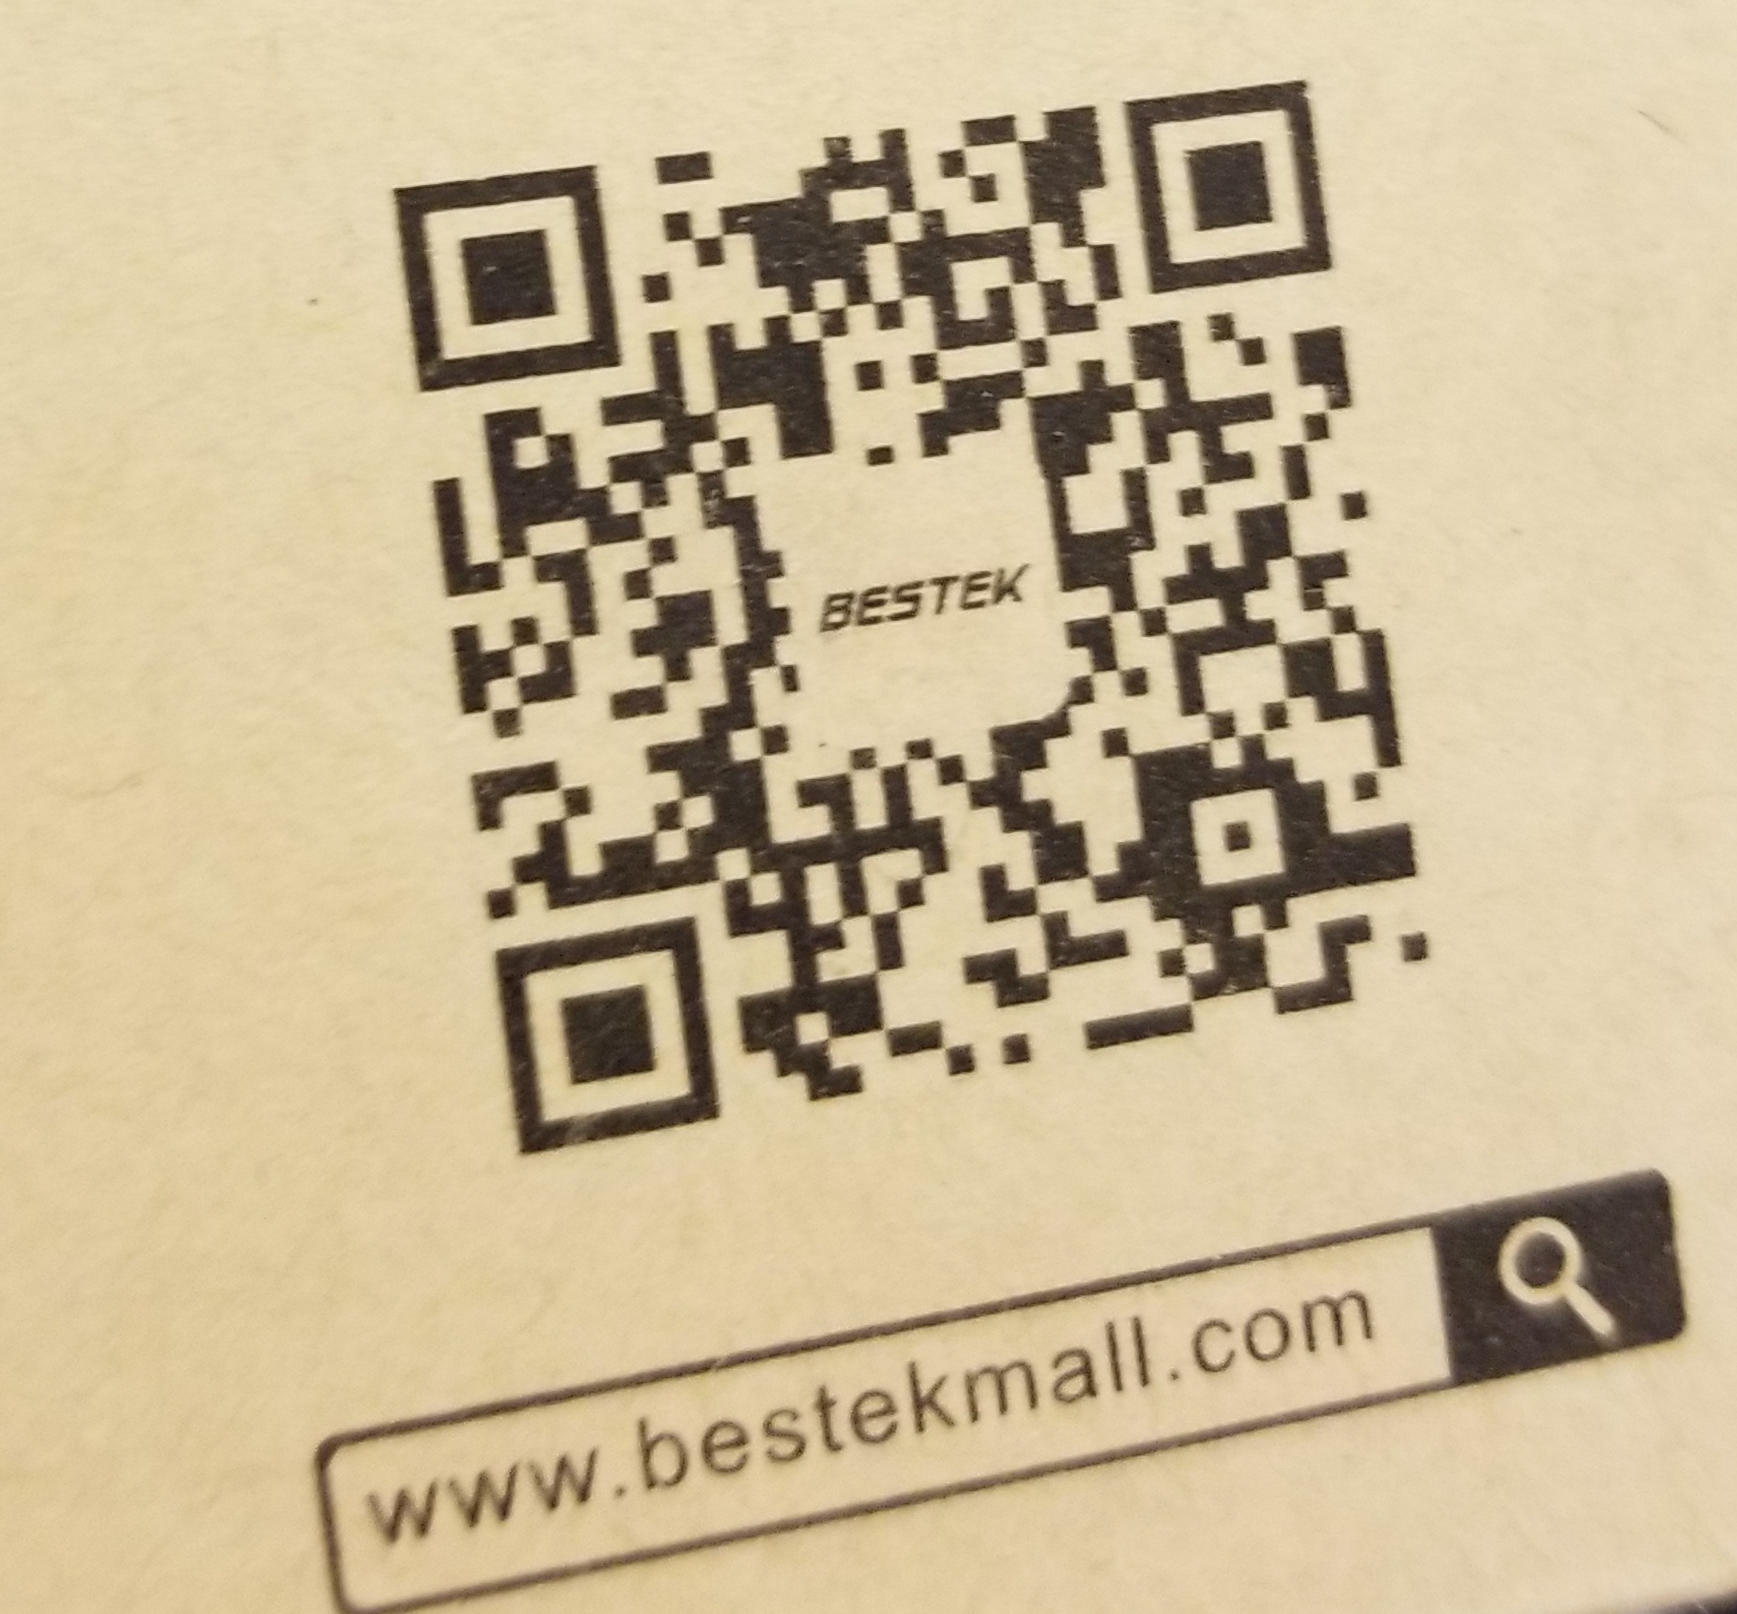QR_CODE: (338, 55, 1478, 1179)
